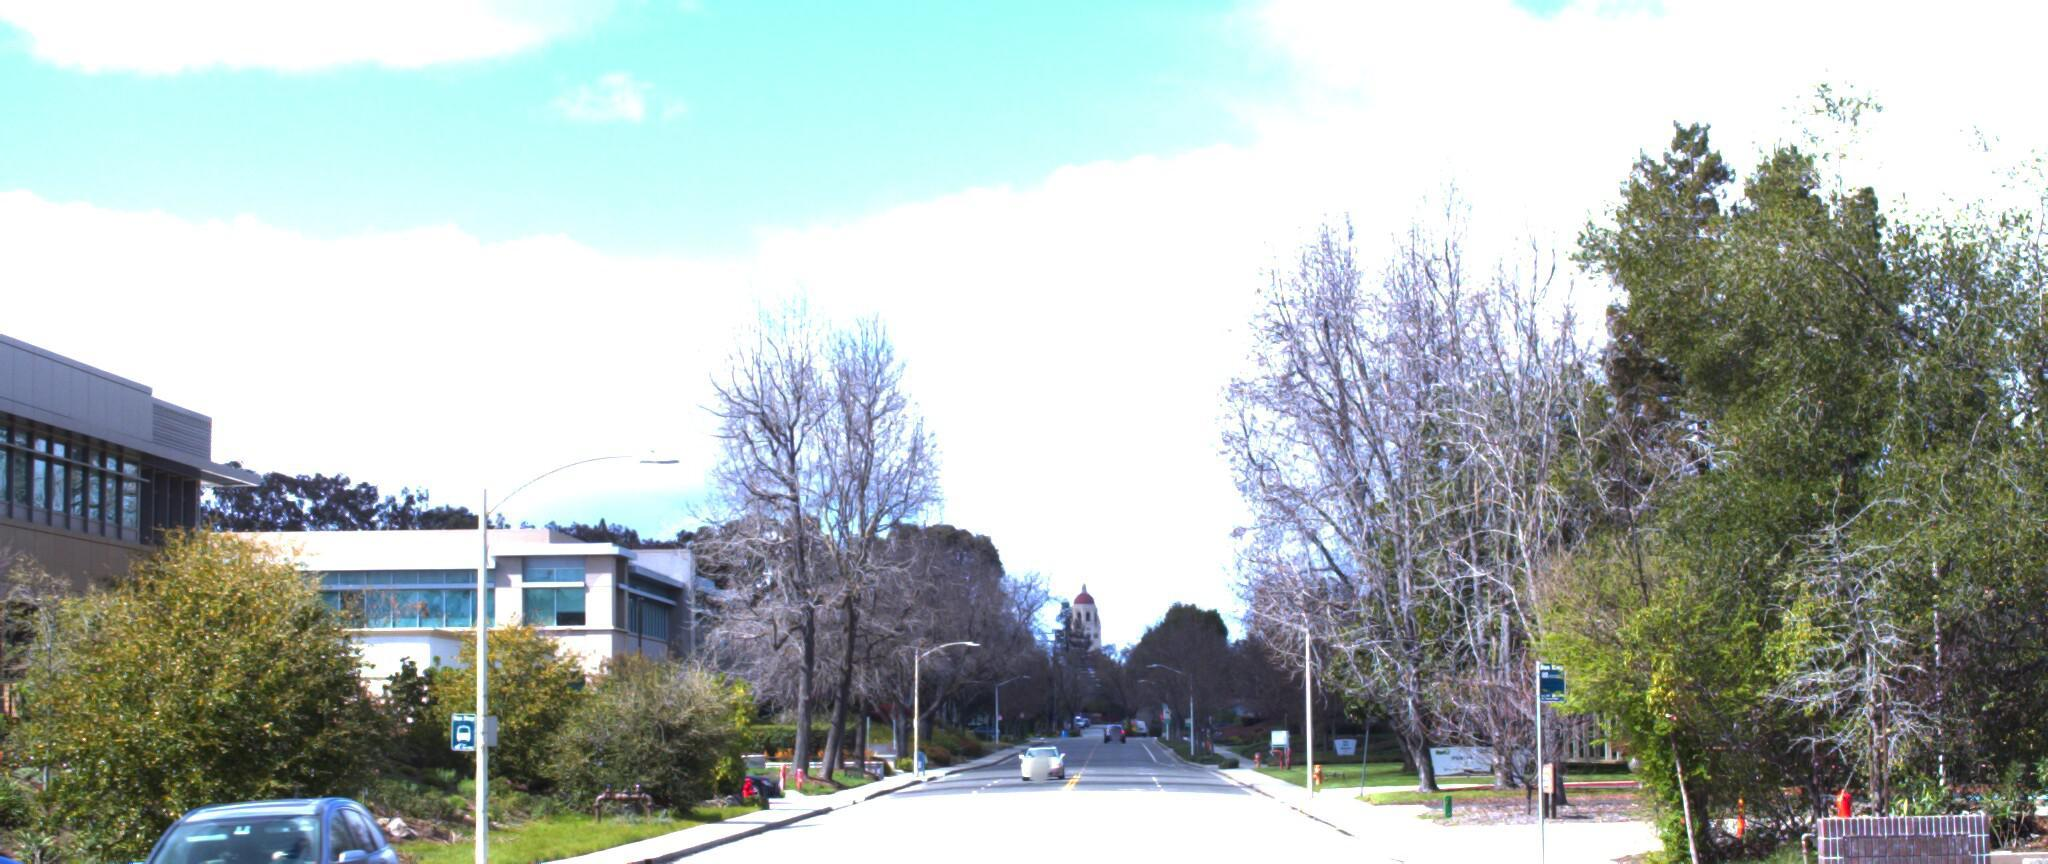car: (76, 788, 435, 864), (0, 795, 313, 864)
